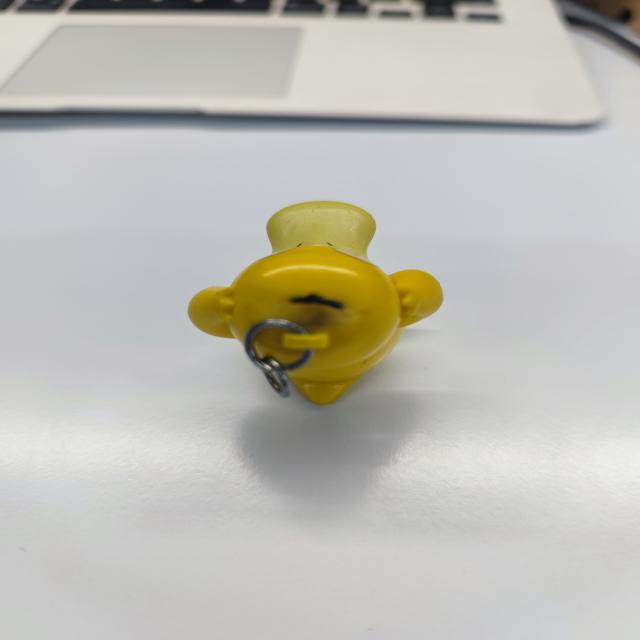Duck: (175, 169, 458, 408)
